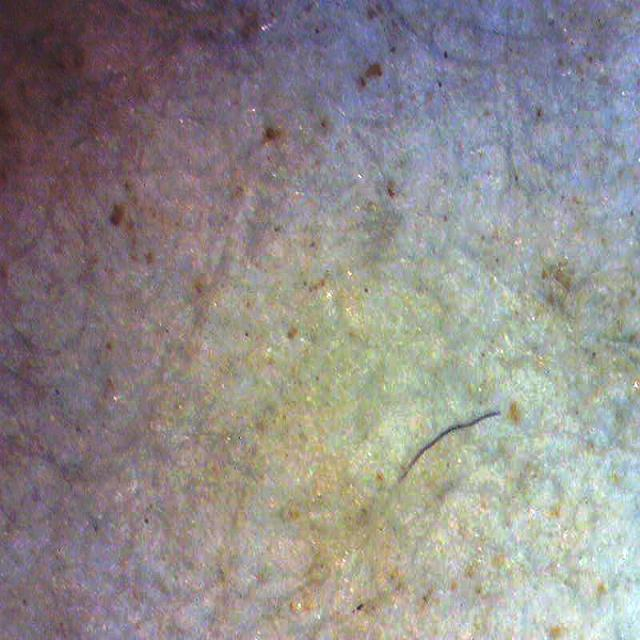microplastic: (403, 411, 499, 478)
